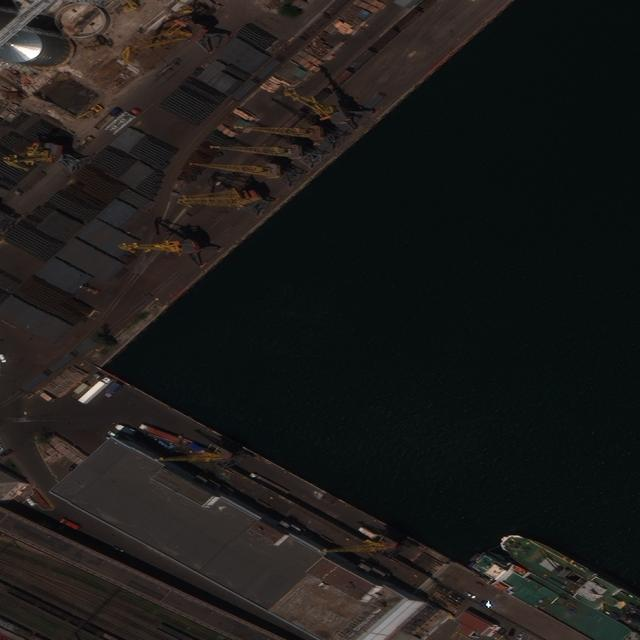Other Ship: (467, 555, 640, 639), (500, 533, 640, 631)
